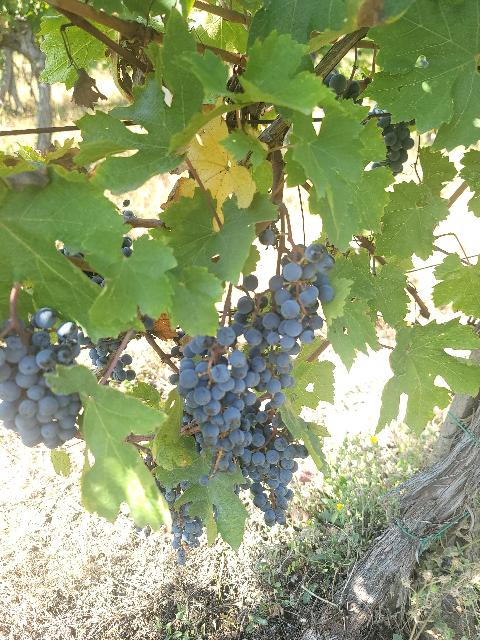grapes: (0, 308, 81, 450), (176, 326, 250, 481), (269, 244, 335, 344), (250, 436, 308, 526)
